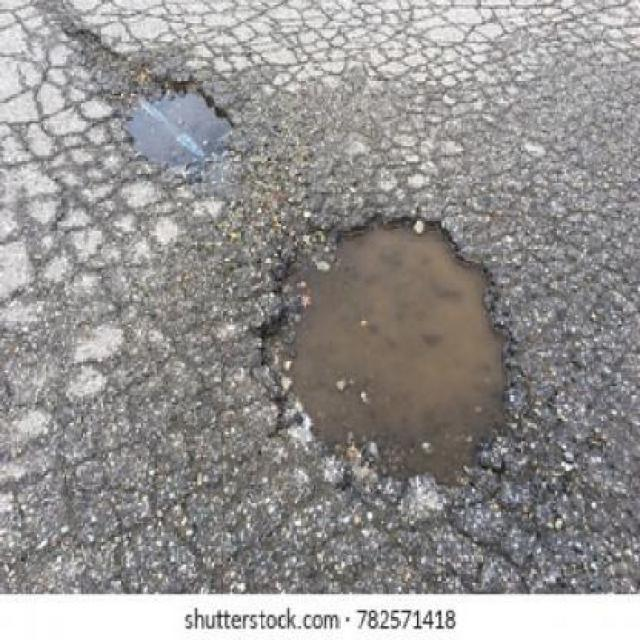Pothole: (251, 208, 517, 489), (66, 24, 232, 174)
